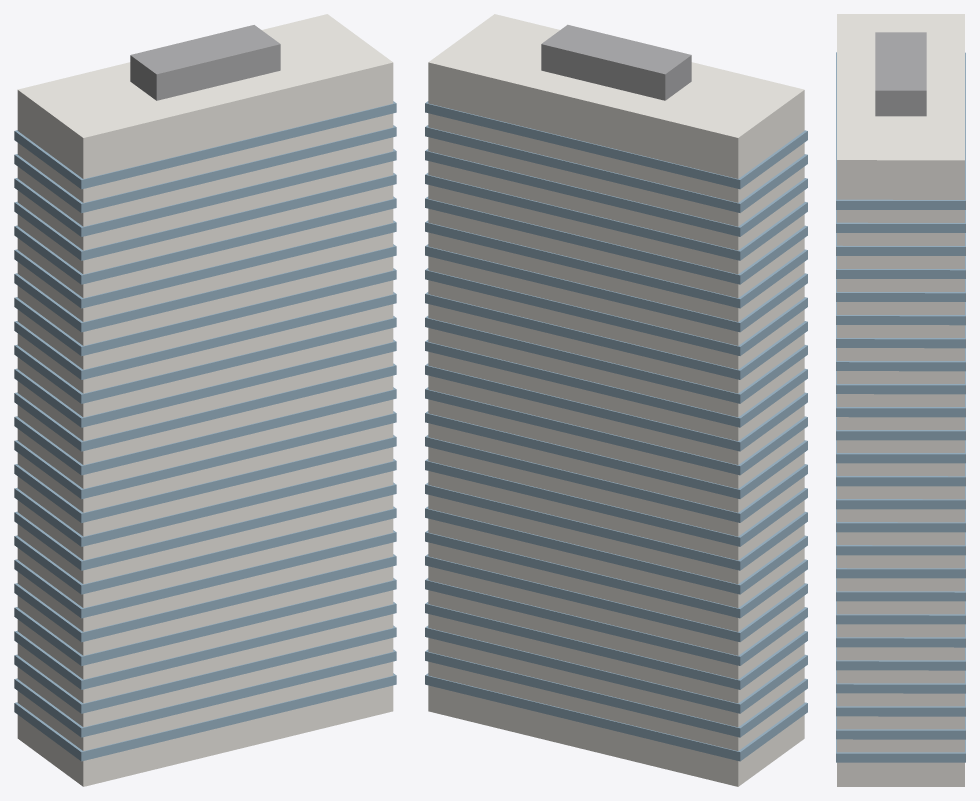
Rendered from basel-claraturm.glb.
The picture shows the model from 3 angles, left to right: view 1: azimuth 30°, elevation 25°; view 2: azimuth 150°, elevation 25°; view 3: azimuth 270°, elevation 25°; orthographic projection. The views are drawn at different scales.
Parts seen in each view (by area): view 1: building; view 2: building; view 3: building.
Boxes of the visible parts, bbox=[...] form: building: bbox=[14, 14, 396, 786]; building: bbox=[425, 14, 807, 786]; building: bbox=[836, 14, 965, 786].
Bounding box in the file's own units: 49.85 × 102 × 18.42.
